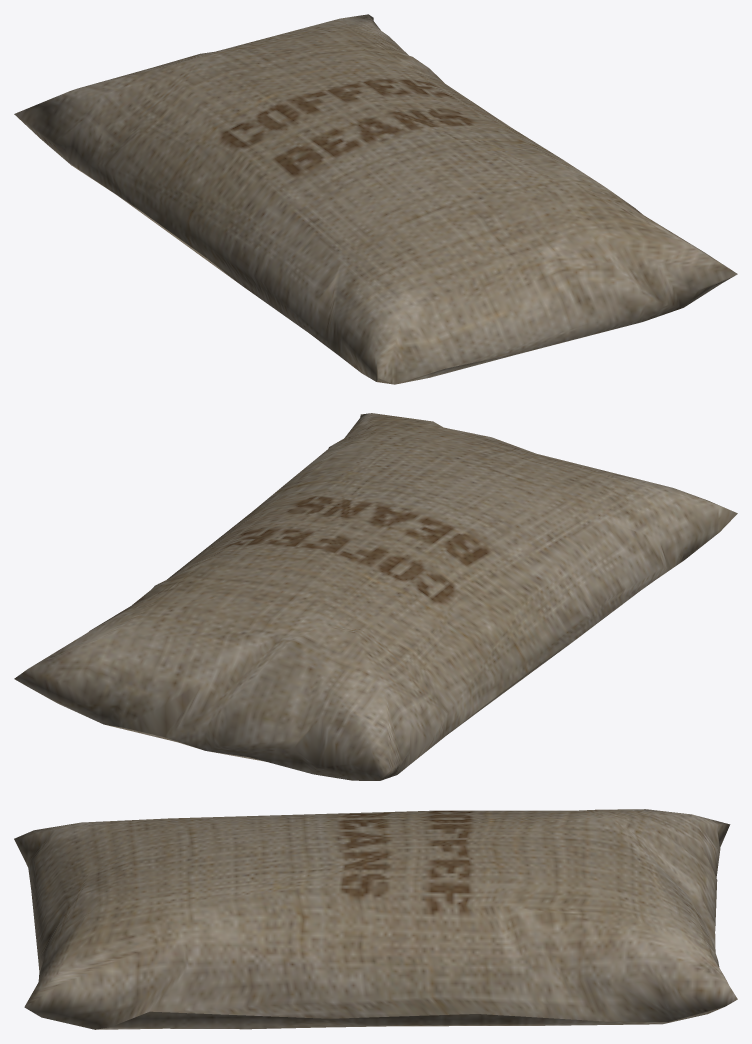
Rendered from Package_B.fbx.
3 views of the same model, one above another, from view 1: azimuth 30°, elevation 25°; view 2: azimuth 150°, elevation 25°; view 3: azimuth 270°, elevation 25° (orthographic). The views are drawn at different scales.
Parts seen in each view (by area): view 1: Package_B_LOD0; view 2: Package_B_LOD0; view 3: Package_B_LOD0.
Boxes of the visible parts, <box> form: Package_B_LOD0: <box>14,14,737,384</box>; Package_B_LOD0: <box>14,413,737,780</box>; Package_B_LOD0: <box>14,809,737,1029</box>.
Size of what is drawn, in the model's own units: 12.8 by 3.54 by 21.05.
